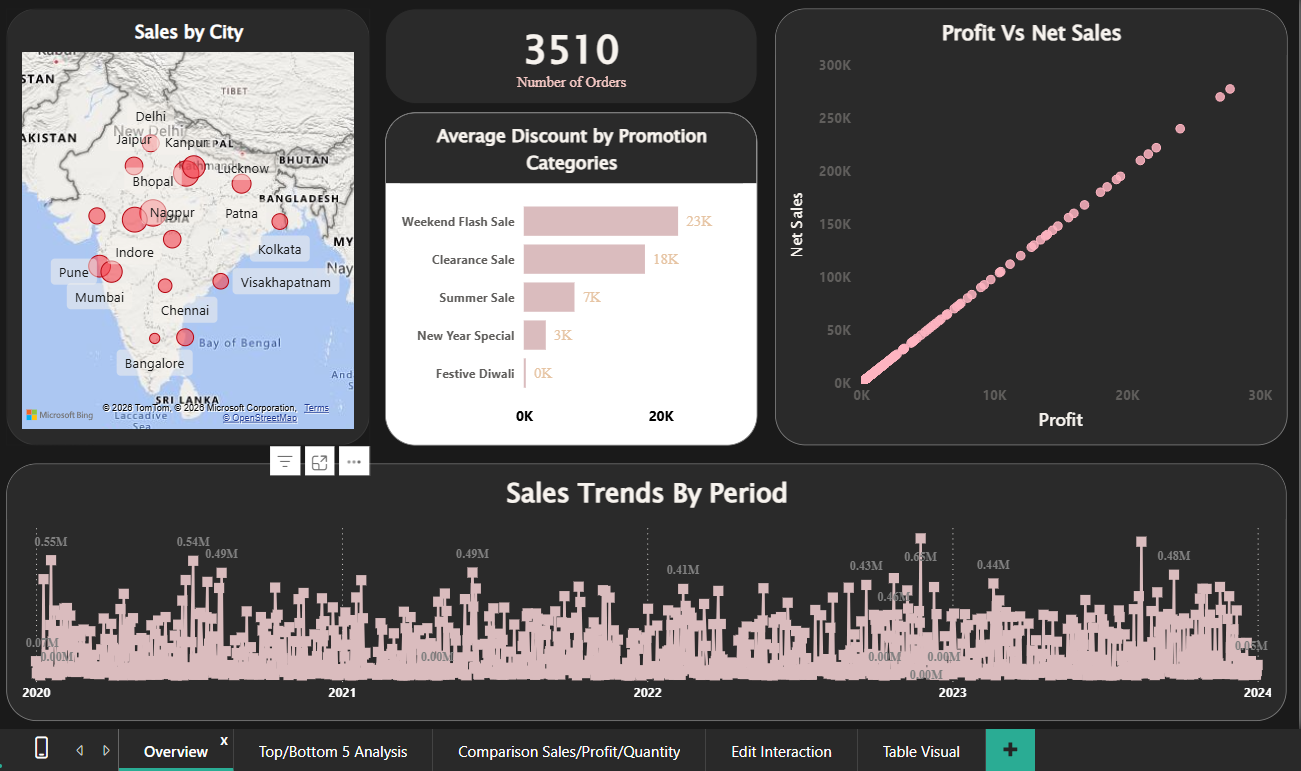

The dashboard page shown, as its layout file describes it:
{"tool":"powerbi","page":{"name":"Overview","canvas":[1280,720],"ordinal":0},"visuals":[{"type":"lineChart","title":"Sales Trends By Period","fields":{"Y":["Sum(Fact Table.Net Sales)"],"Category":["Fact Table.Date (dd/mm/yyyy).Variation.Date Hierarchy.Year"]},"box":[11.4,458.6,1257.1,252.9],"z":0},{"type":"scatterChart","title":"Profit Vs Net Sales","fields":{"X":["Fact Table.Profit"],"Y":["Fact Table.Net Sales"]},"box":[765.7,12.9,502.9,428.6],"z":1000},{"type":"barChart","title":"Average Discount by Promotion Categories","fields":{"Y":["Avg(Fact Table.Discount)"],"Category":["Dim Promotion.Promotion Name"]},"box":[382.9,114.3,365.7,327.1],"z":2000},{"type":"map","title":"Sales by City","fields":{"Category":["Dim Customers.City"],"Size":["Sum(Fact Table.Net Sales)"]},"box":[11.4,12.9,357.1,428.6],"z":3000},{"type":"card","fields":{"Values":["Count(Fact Table.Order ID)"]},"box":[382.8,12.3,365.6,93.3],"z":4000}]}

Visuals, with their boxes on the page's 1280x720 design canvas (x1, y1, x2, y2). These are canvas units, not pixel positions in the 1301x771 screenshot, which may show the page scaled, cropped or inside an application window:
"Sales Trends By Period" lineChart: x1=11 y1=459 x2=1268 y2=712
"Profit Vs Net Sales" scatterChart: x1=766 y1=13 x2=1269 y2=442
"Average Discount by Promotion Categories" barChart: x1=383 y1=114 x2=749 y2=441
"Sales by City" map: x1=11 y1=13 x2=368 y2=442
card - Count(Fact Table.Order ID): x1=383 y1=12 x2=748 y2=106
